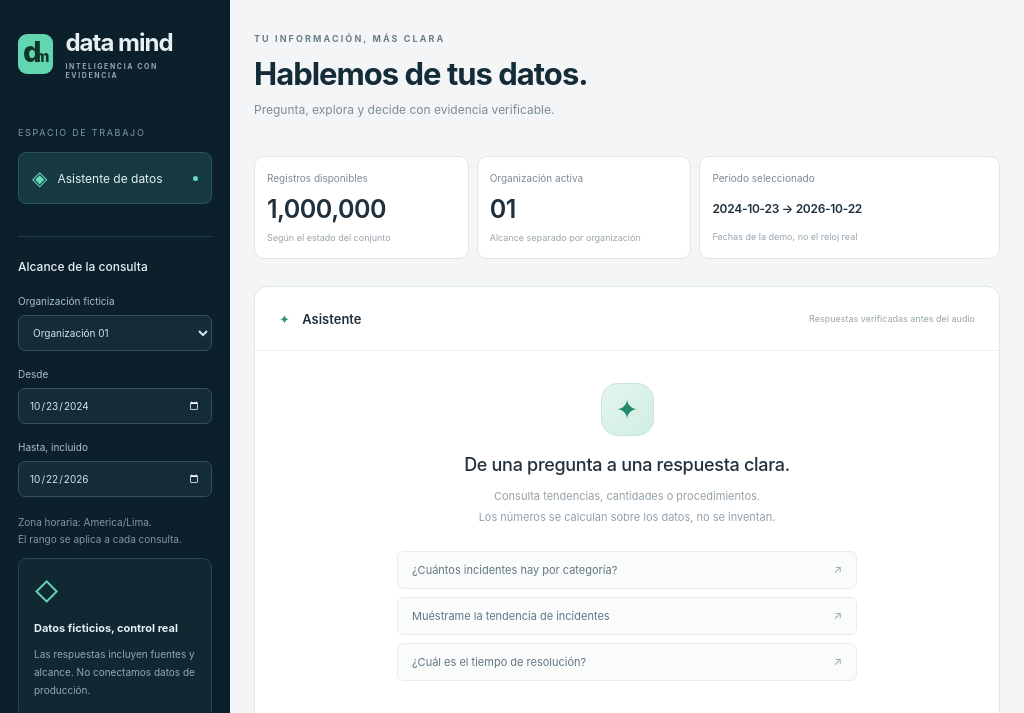
Spanish conversational client › shows explicit clarification without presenting verified evidence or audio
Expected: the text "1,000,000" is shown, left=267, top=194, right=386, bottom=224
Click the button "¿Cuántos incidentes hay por categoría? ↗". click: (515, 570)
box: left=397, top=551, right=857, bottom=589
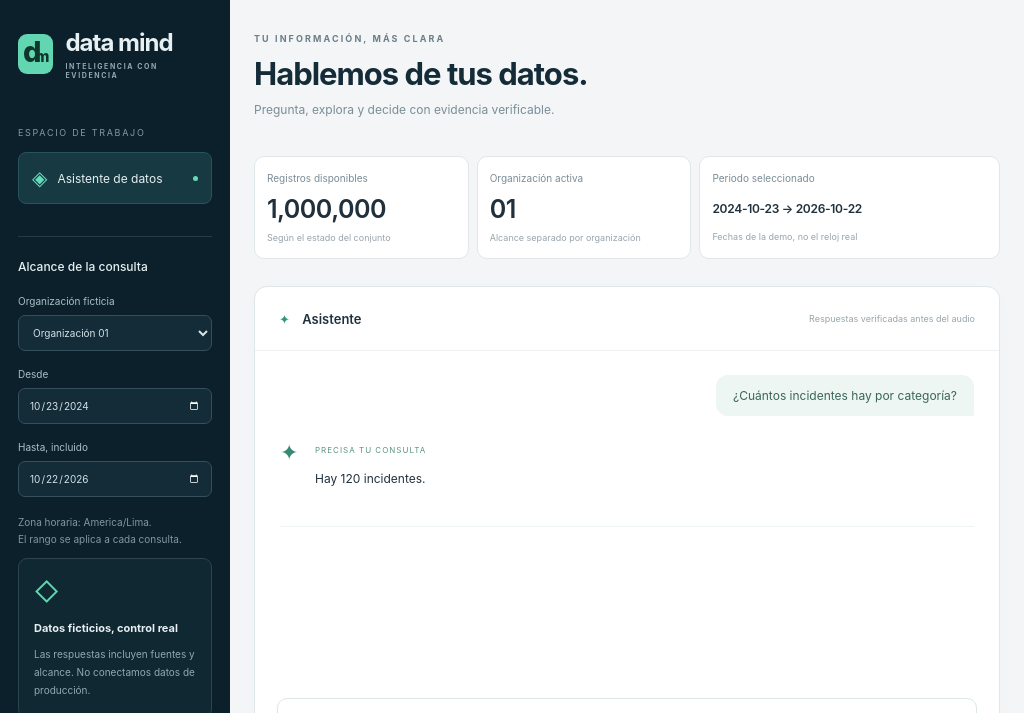
Expected: the text "PRECISA TU CONSULTA" is shown, left=315, top=445, right=426, bottom=455
